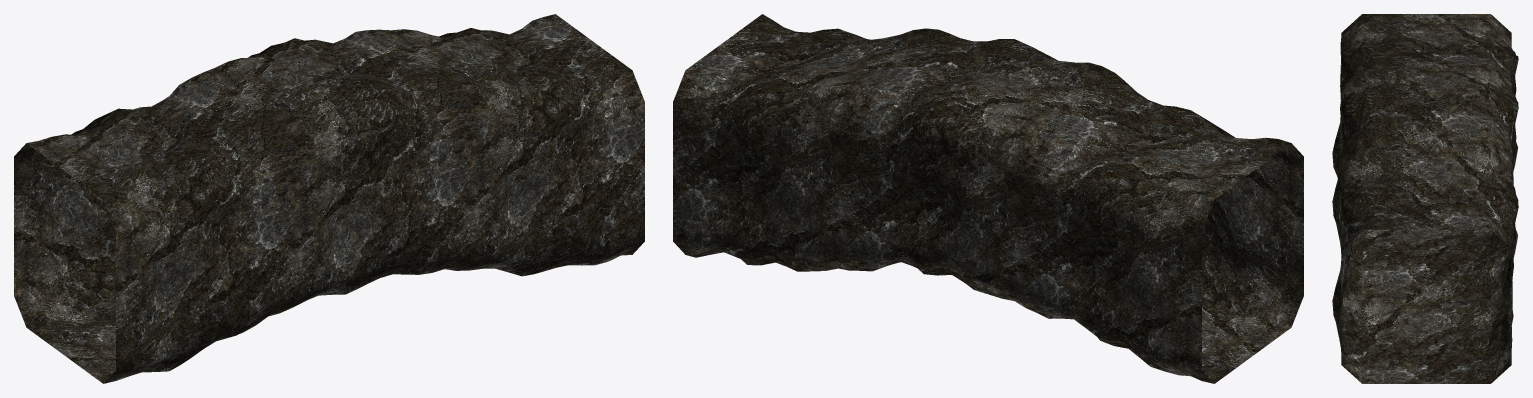
The model's file is Cave_063.fbx.
The picture shows the model from 3 angles, left to right: view 1: azimuth 30°, elevation 25°; view 2: azimuth 150°, elevation 25°; view 3: azimuth 270°, elevation 25°; orthographic projection. The views are drawn at different scales.
Visible parts, largest first — view 1: Cave.063; view 2: Cave.063; view 3: Cave.063.
Boxes of the visible parts, box(x1,y1,x2,y2) form: Cave.063: box(14, 14, 644, 383); Cave.063: box(673, 14, 1303, 383); Cave.063: box(1332, 14, 1518, 383).
Size of the model in its own units: 900 by 369 by 328.
